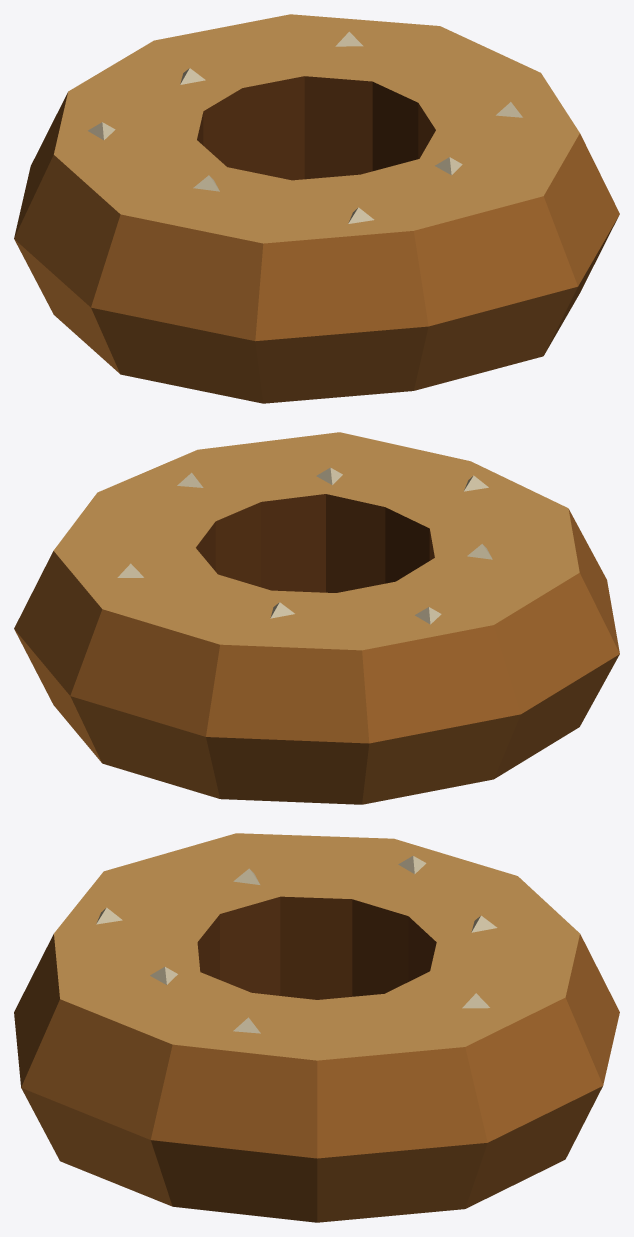
Rendered from bagel-d8a6bb.glb.
The picture shows the model from 3 angles, top to bottom: view 1: azimuth 30°, elevation 25°; view 2: azimuth 150°, elevation 25°; view 3: azimuth 270°, elevation 25°; orthographic projection. The views are drawn at different scales.
Parts seen in each view (by area): view 1: bagel; view 2: bagel; view 3: bagel.
Part boxes in pixels (left/top/right/bottom): bagel: left=14, top=14, right=619, bottom=403; bagel: left=14, top=432, right=619, bottom=804; bagel: left=14, top=833, right=619, bottom=1222.
Bounding box in the file's own units: 0.1114 × 0.0345 × 0.109.
